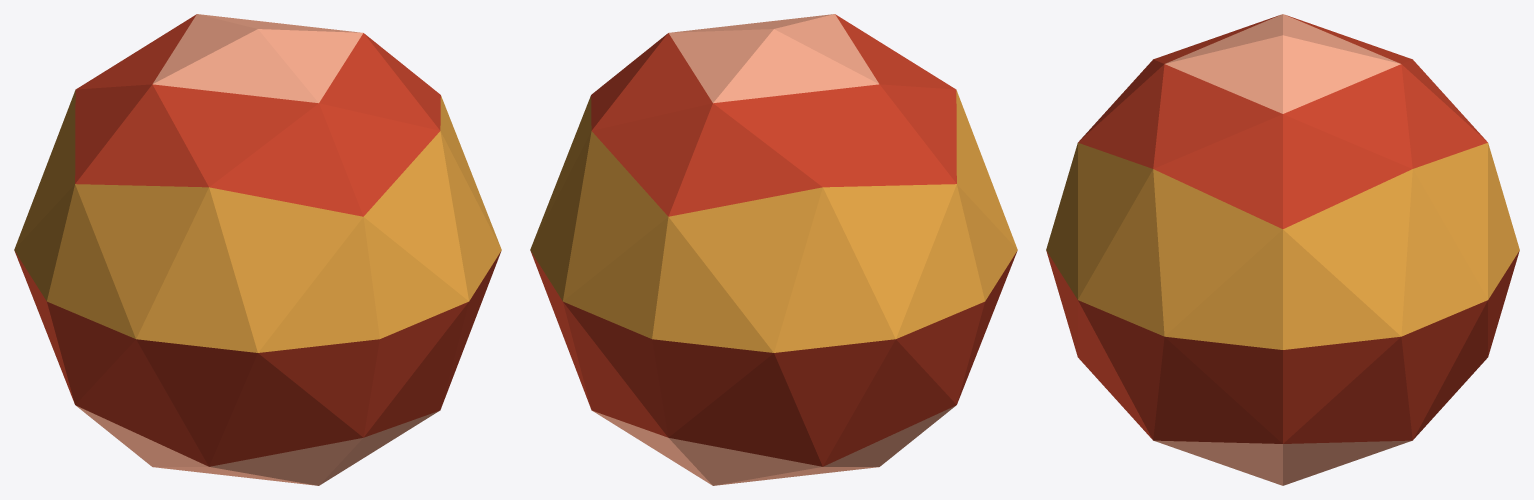
File: planet02.FBX
The picture shows the model from 3 angles, left to right: view 1: azimuth 30°, elevation 25°; view 2: azimuth 150°, elevation 25°; view 3: azimuth 270°, elevation 25°; orthographic projection. The views are drawn at different scales.
Parts seen in each view (by area): view 1: planet02; view 2: planet02; view 3: planet02.
Boxes of the visible parts, x1=… form: planet02: x1=14, y1=14, x2=501, y2=485; planet02: x1=530, y1=14, x2=1017, y2=485; planet02: x1=1046, y1=14, x2=1519, y2=485.
Bounding box in the file's own units: 20.42 × 20.42 × 20.42.
